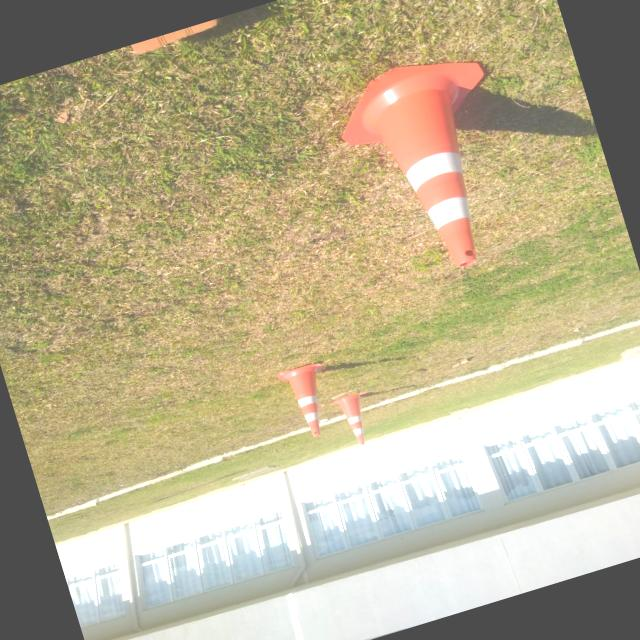cone: (313, 36, 548, 312), (264, 356, 344, 448), (318, 380, 388, 458)
